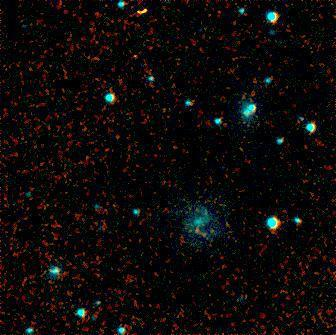star: (117, 41, 147, 71)
